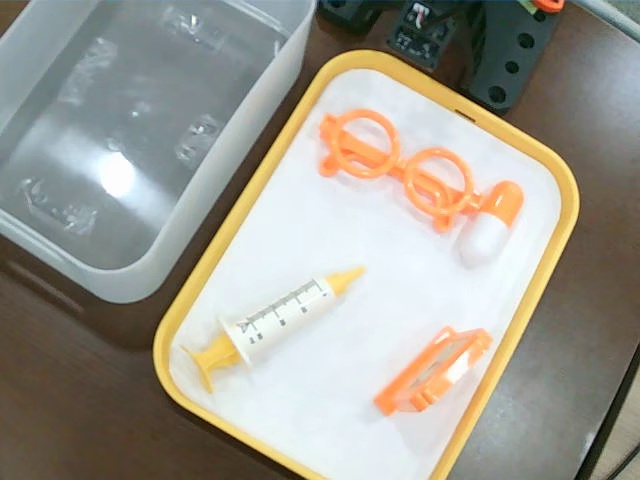pill: (464, 179, 525, 267)
syringe: (180, 267, 369, 396)
